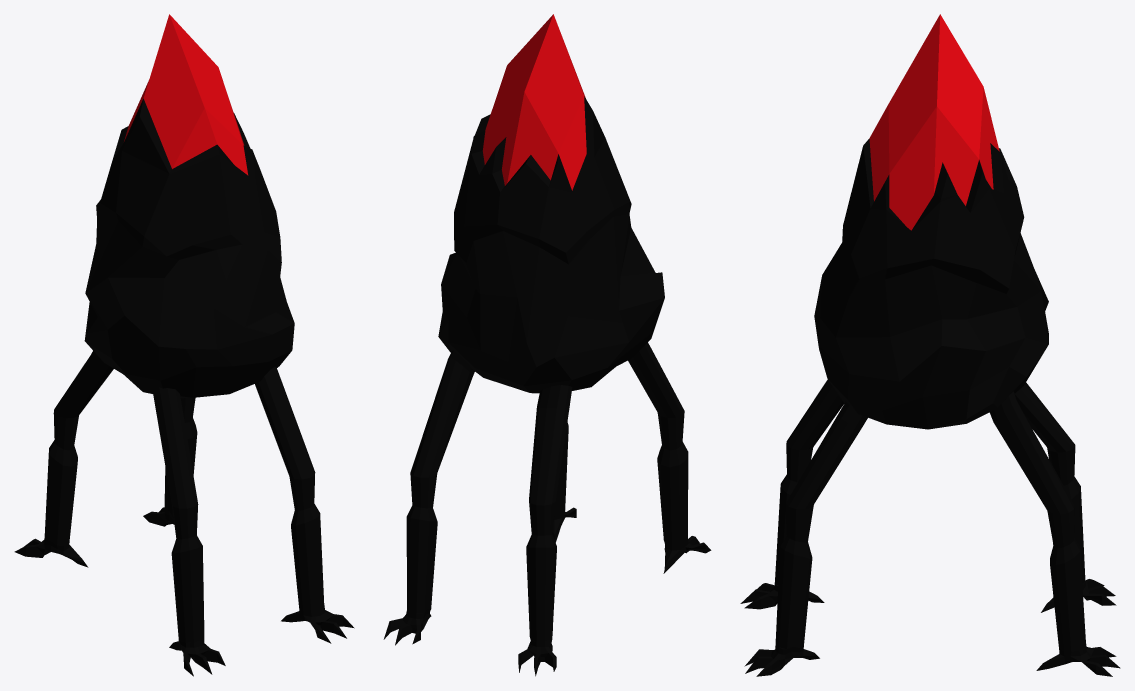
File: Walker.fbx
3 views of the same model, side by side, from view 1: azimuth 30°, elevation 25°; view 2: azimuth 150°, elevation 25°; view 3: azimuth 270°, elevation 25° (orthographic). The views are drawn at different scales.
Parts seen in each view (by area): view 1: Cube; view 2: Cube; view 3: Cube.
Boxes of the visible parts, x1=… form: Cube: x1=14, y1=14, x2=354, y2=676; Cube: x1=383, y1=14, x2=711, y2=676; Cube: x1=740, y1=14, x2=1120, y2=676.
Bounding box in the file's own units: 163 × 483 × 270.
